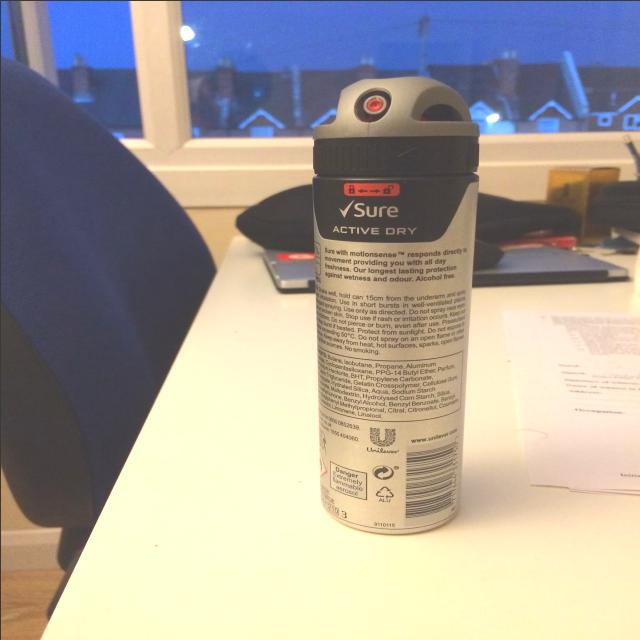Aerosol: (312, 76, 480, 534)
Normal paper: (502, 309, 640, 497)
